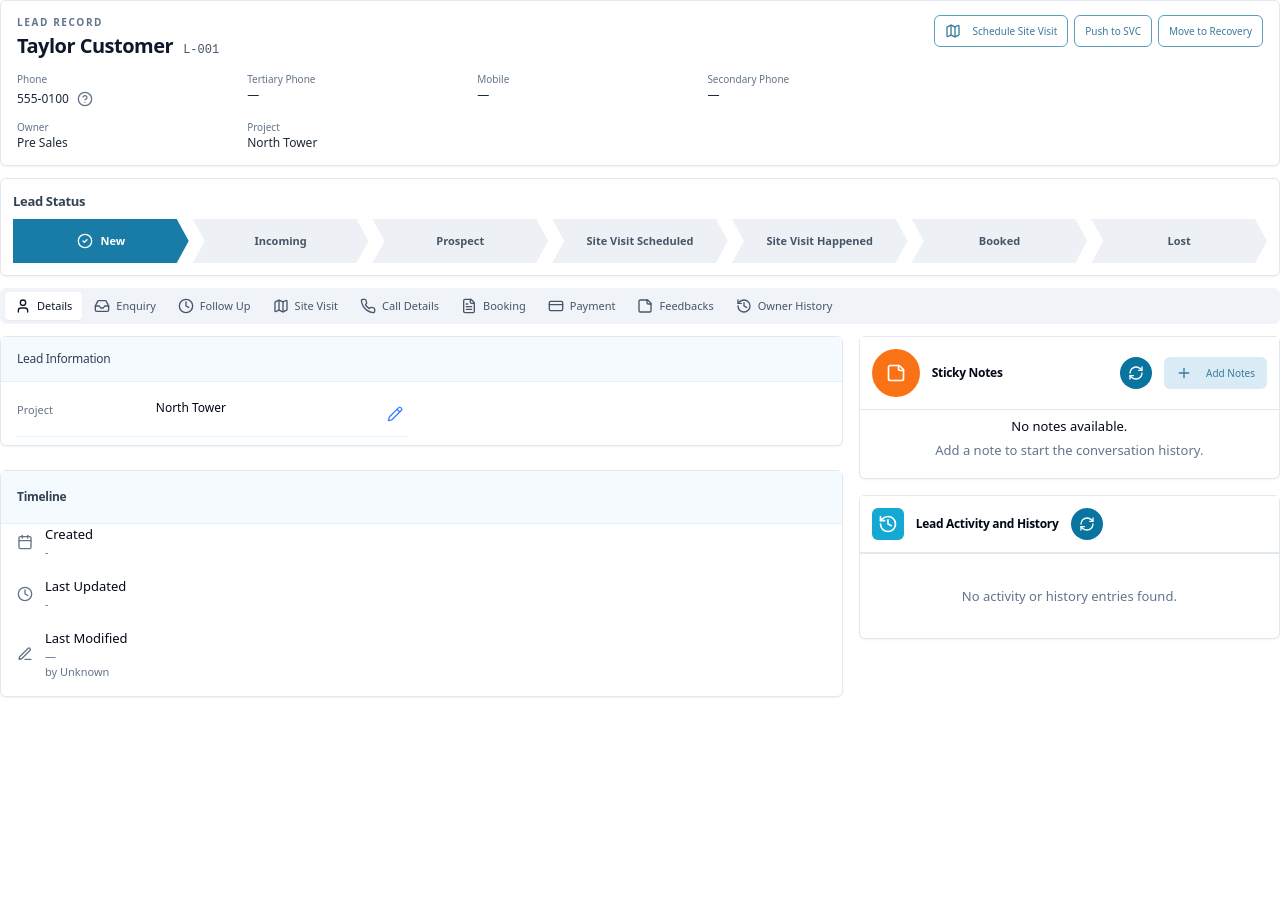
Test: Push to SVC › blocks Push to SVC immediately when the Lead has an active scheduled Follow-Up
What coordinates should you click on to do the following:
click the button "Push to SVC"
I would click on:
 (1113, 31)
Its box is 1074,15 -> 1152,47.
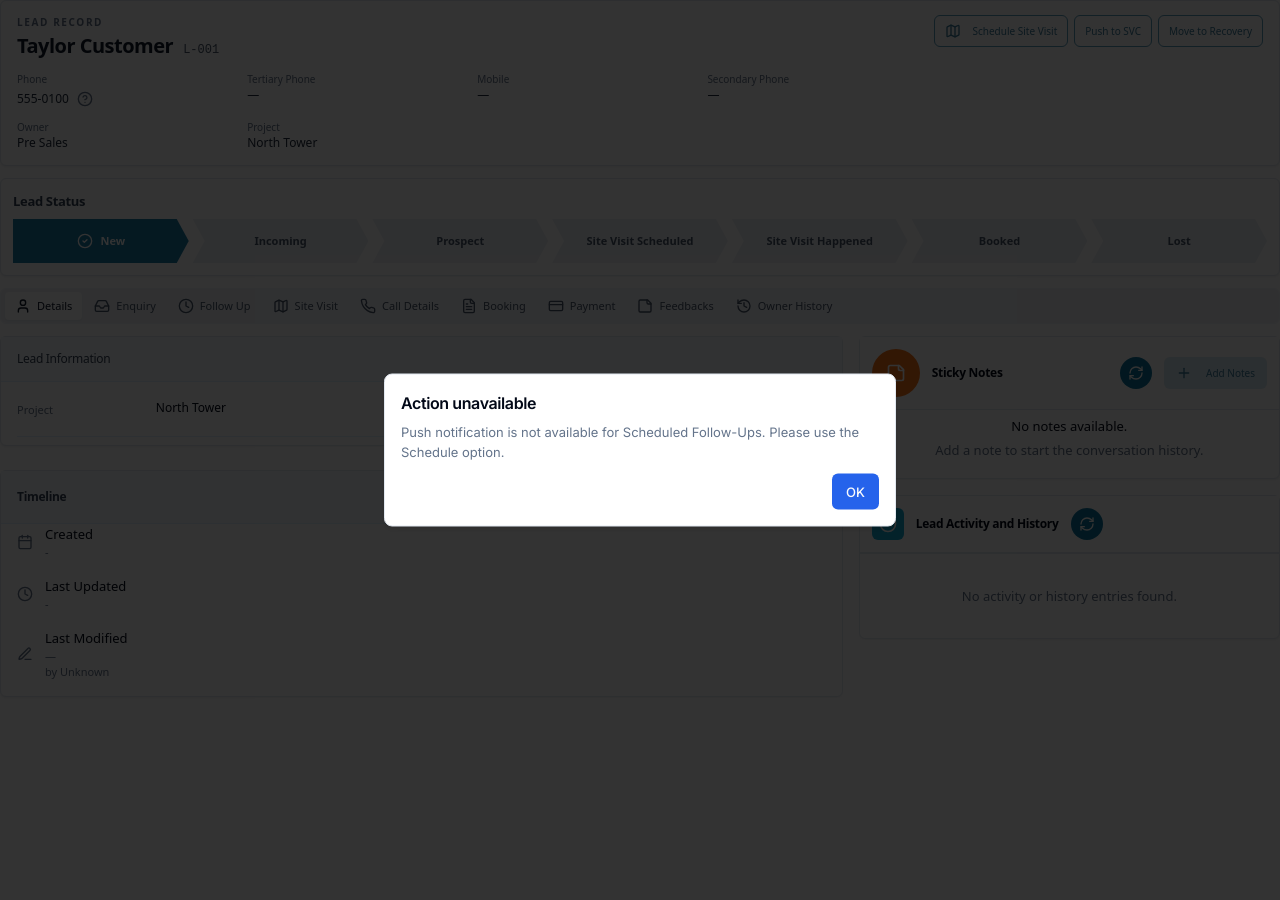
Expected: the text "Push notification is not available for Scheduled Follow-Ups. Please use the Schedule option." is shown, 401,424 -> 859,459
Expected: the button "OK" is shown
What coordinates should you click on to do the following:
click the button "OK"
I would click on:
 (856, 492)
Its box is 832,474 -> 879,510.
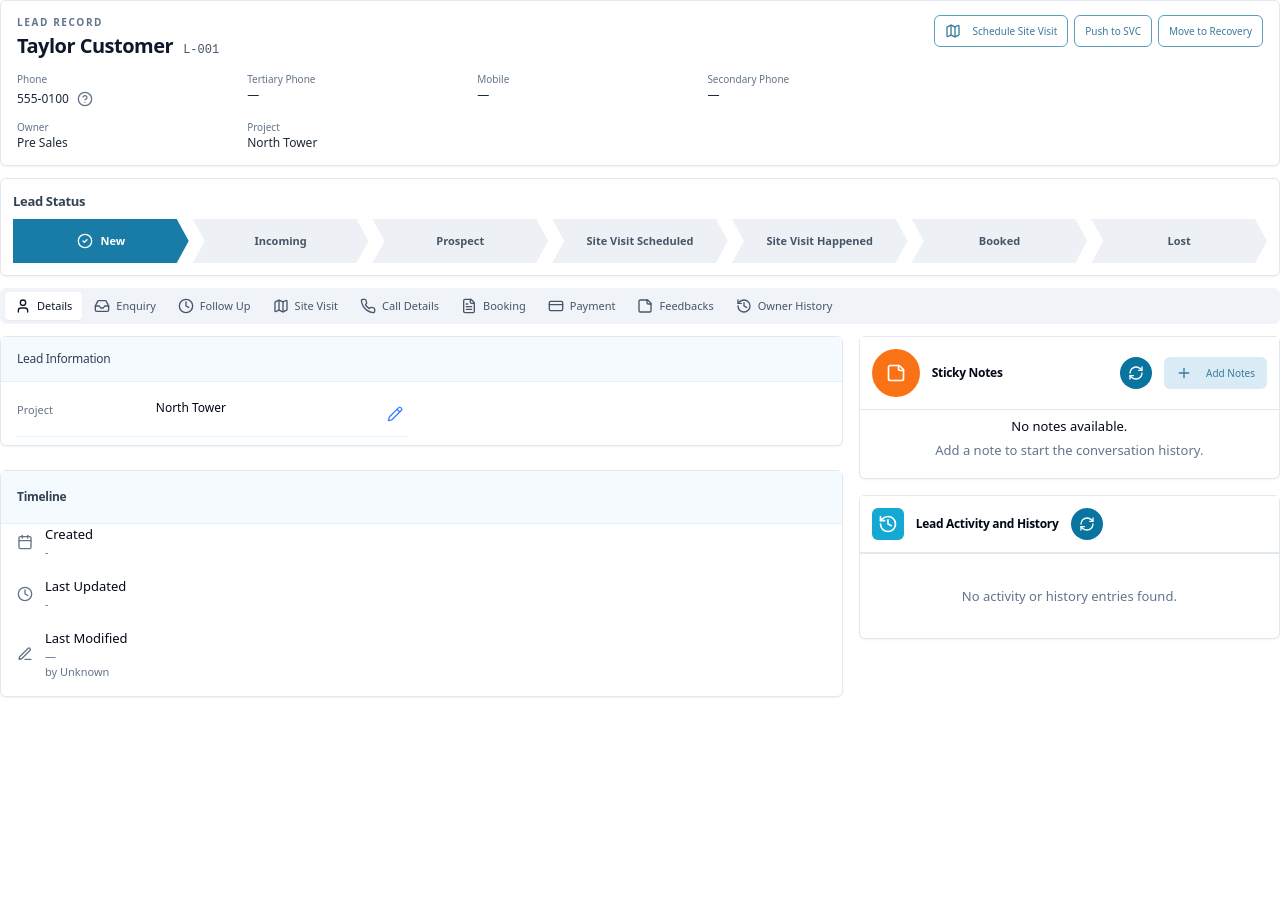
Expected: the text "Push notification is not available for Scheduled Follow-Ups. Please use the Schedule option." is gone
